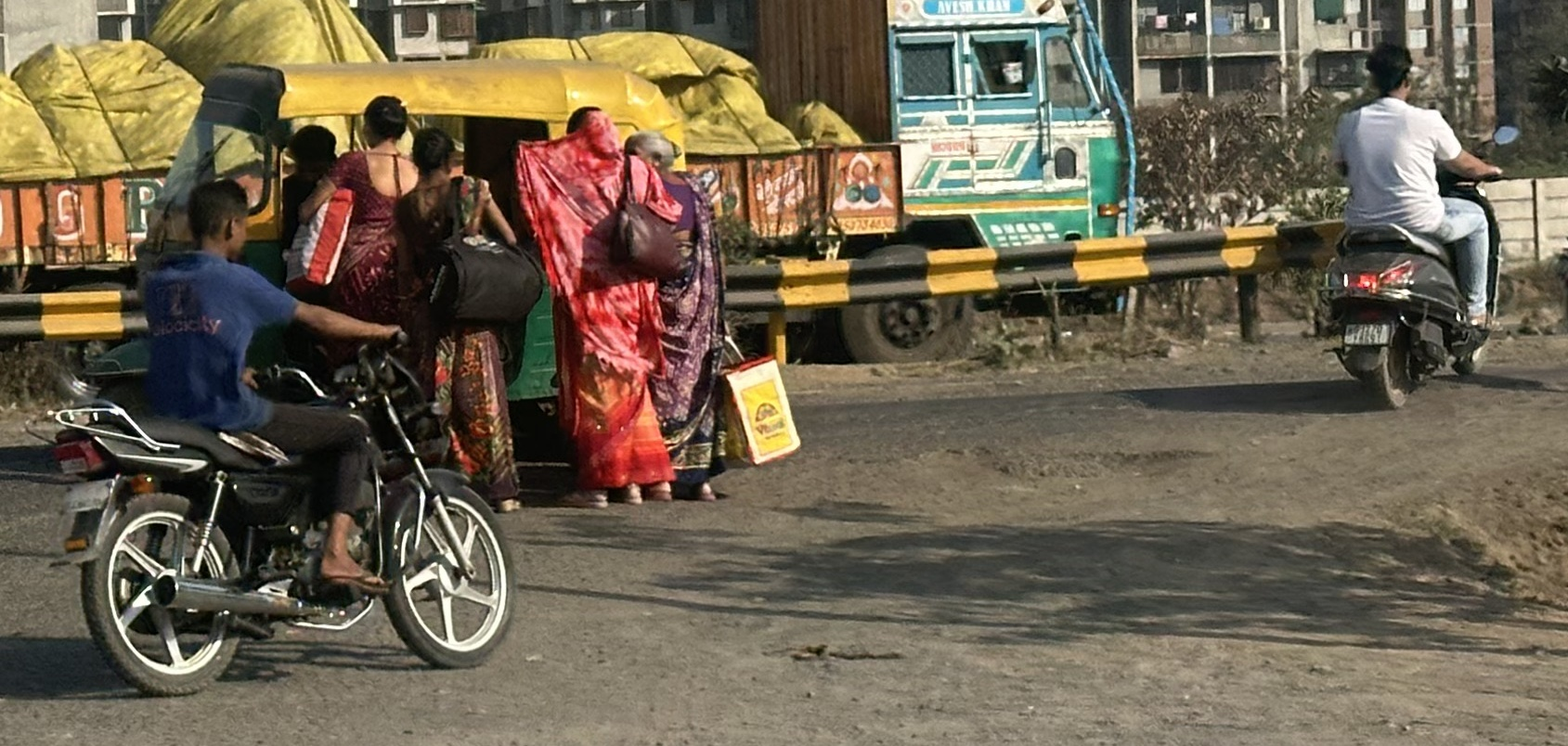BikeWithRider: (27, 155, 534, 705), (1307, 28, 1527, 418)
NoHelmet: (173, 171, 262, 269), (1362, 32, 1421, 101)
